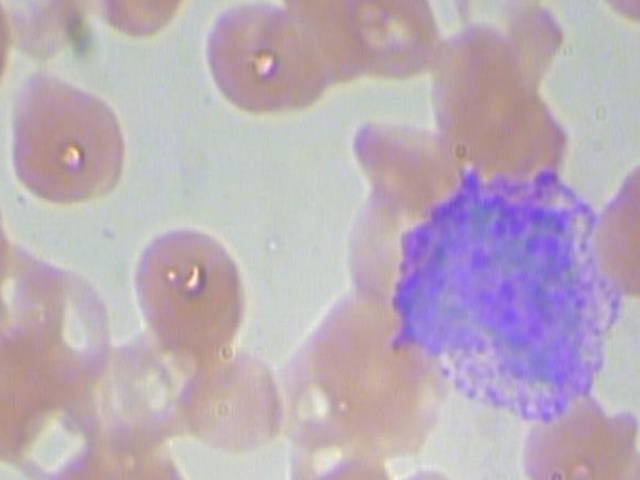RBC: (125, 217, 258, 357), (10, 65, 142, 205), (176, 336, 292, 463), (79, 332, 195, 459), (6, 253, 122, 380), (432, 13, 526, 155), (190, 0, 306, 115), (230, 0, 346, 115), (347, 106, 475, 210), (0, 361, 111, 480), (285, 0, 401, 92), (580, 145, 640, 317), (332, 0, 448, 83), (31, 434, 205, 480), (77, 0, 215, 44), (446, 0, 568, 44), (291, 447, 403, 480), (383, 447, 494, 480), (574, 0, 640, 34)
WBC: (386, 167, 640, 422)
